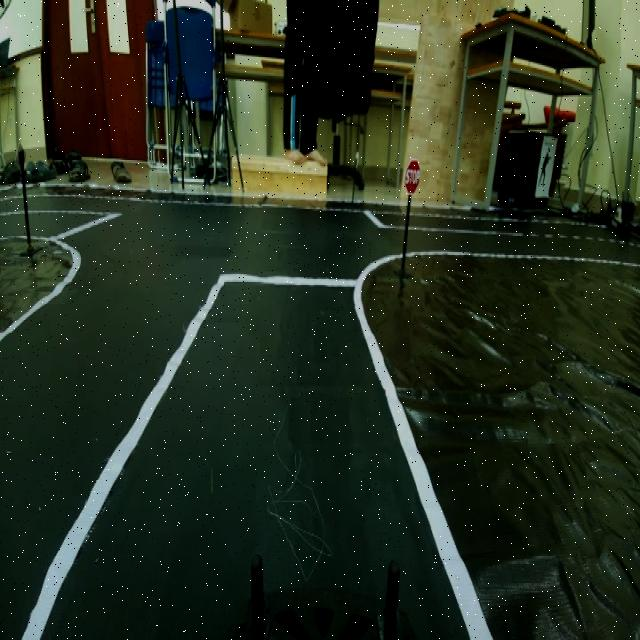stop: (398, 150, 424, 197)
